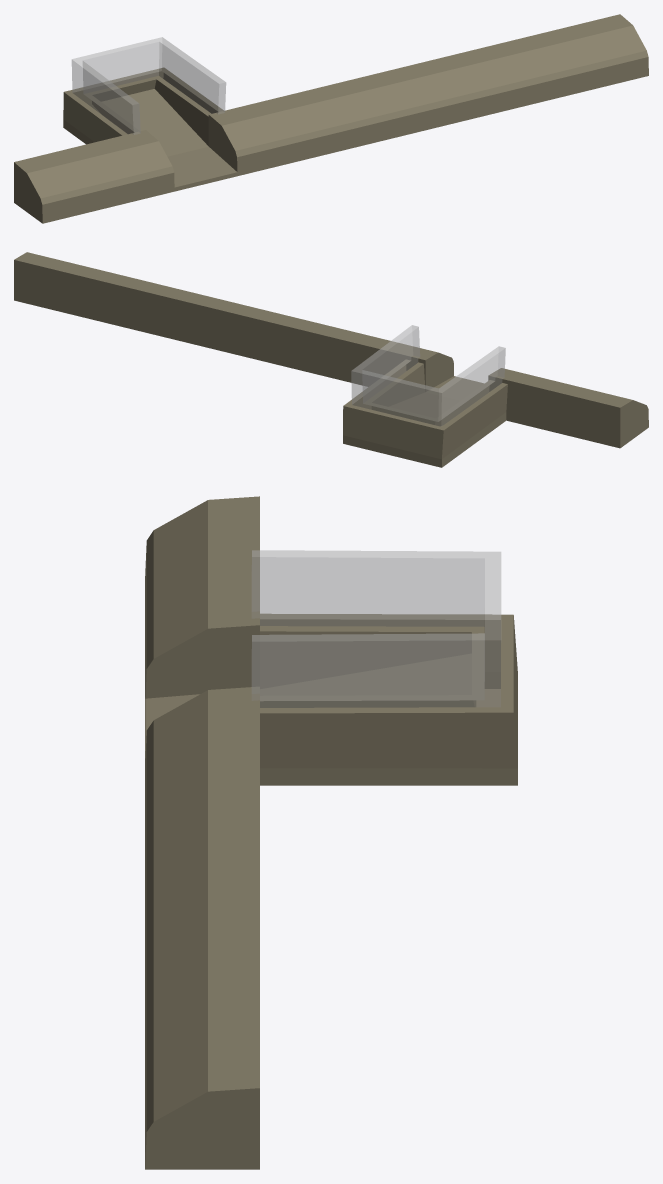
Rendered from dfgg.fbx.
The picture shows the model from 3 angles, top to bottom: view 1: azimuth 30°, elevation 25°; view 2: azimuth 150°, elevation 25°; view 3: azimuth 270°, elevation 25°; orthographic projection. The views are drawn at different scales.
Parts seen in each view (by area): view 1: obj1; view 2: obj1; view 3: obj1.
Part boxes in pixels (x1,y1,x2,y2): obj1: (14,14,648,223); obj1: (14,252,648,467); obj1: (145,496,517,1169).
Bounding box in the file's own units: 1713 × 191 × 456.
